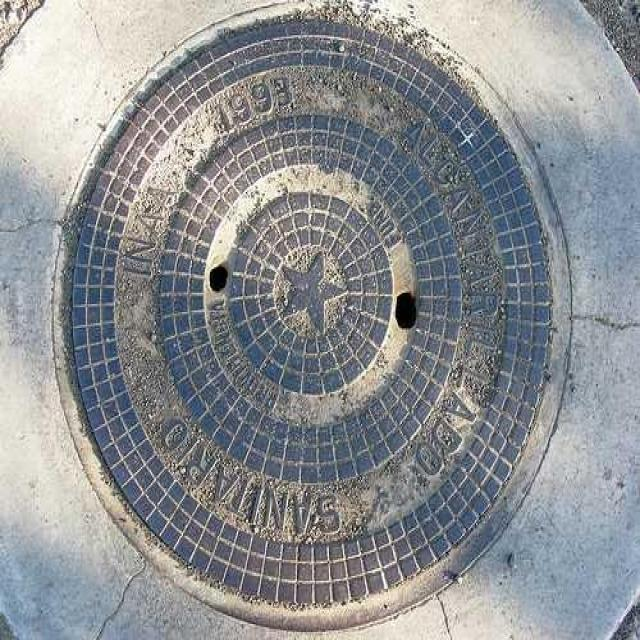manhole: (56, 5, 567, 626)
